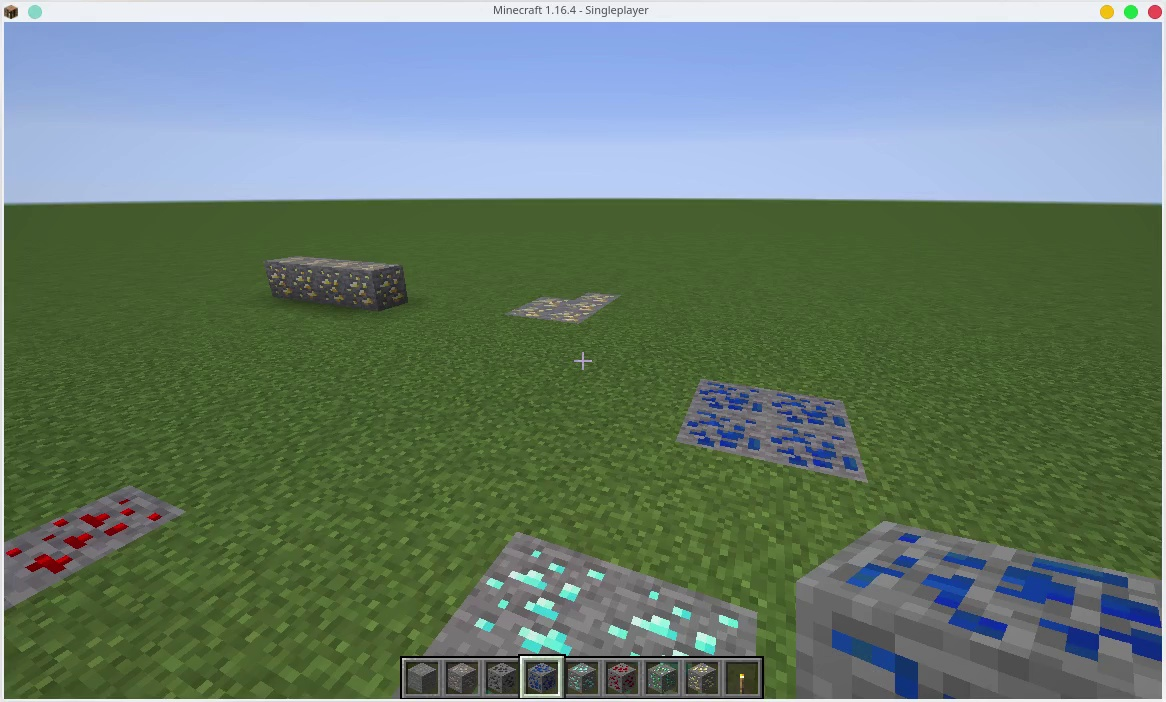gold: (351, 263, 406, 312), (318, 256, 345, 310), (263, 250, 288, 300), (684, 662, 720, 692), (293, 257, 314, 304), (506, 302, 540, 320), (557, 309, 591, 325), (584, 289, 616, 300), (537, 293, 565, 303), (571, 299, 598, 308)
